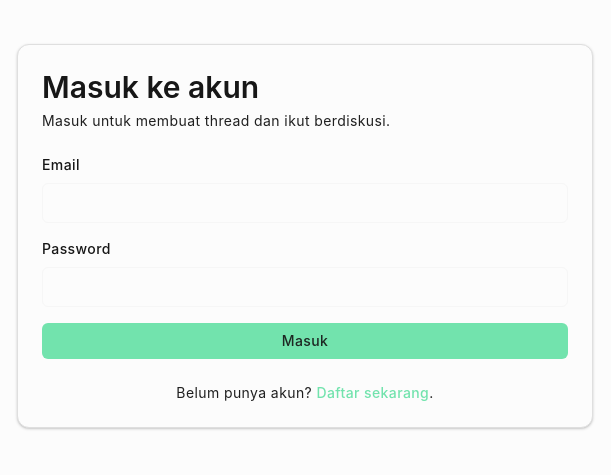
Test: LoginPage › shows validation error on empty submit
This screenshot has width=611, height=475.
Click the button "Masuk": (305, 341) 42,323 -> 568,359
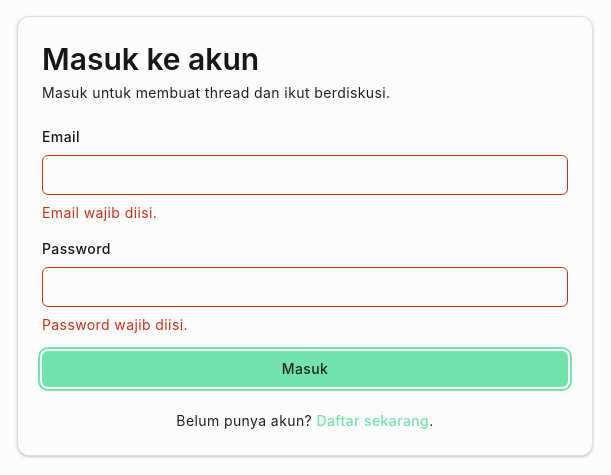
Check: the text "Email wajib diisi." is shown, box 42,204 -> 157,221
Check: the text "Password wajib diisi." is shown, box 42,316 -> 188,333
